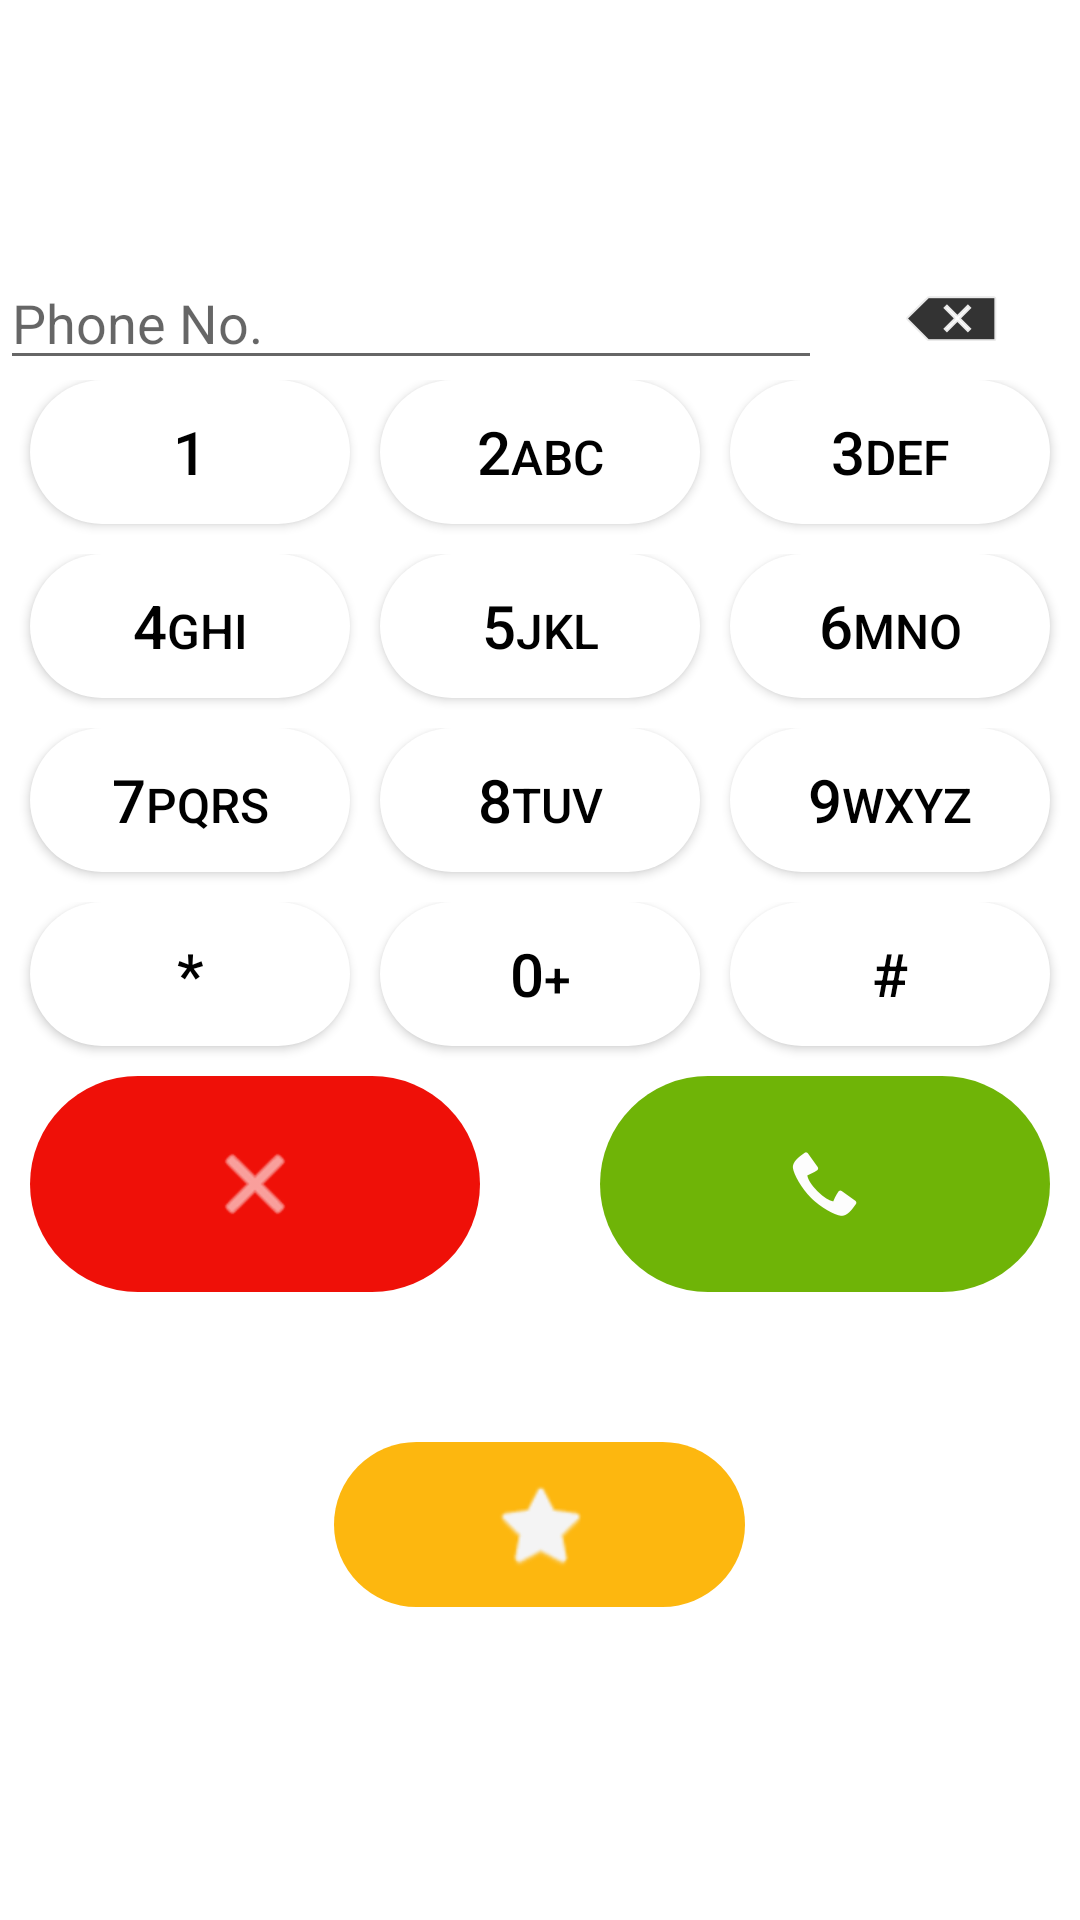

Where to tap for icons on this 1080×1920 app screen, as (x,y):
delete: (951,319)
